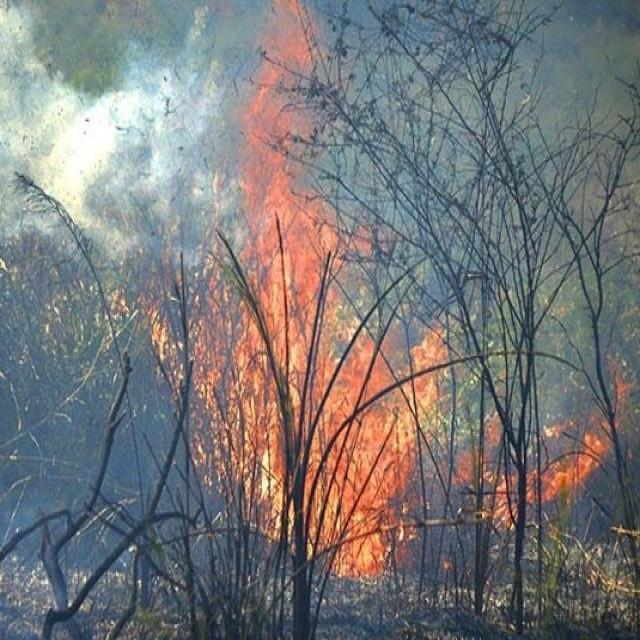Fire: (142, 0, 468, 583), (451, 350, 636, 512)
Smoke: (12, 19, 232, 274)
